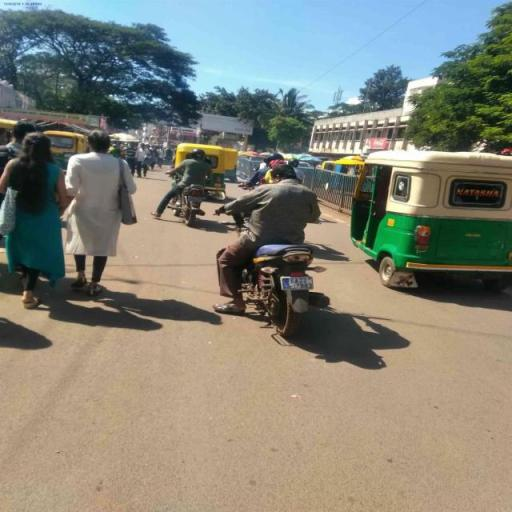bike: (210, 162, 333, 338)
numberplate: (280, 276, 314, 290)
withouthelmet: (271, 165, 295, 181)
